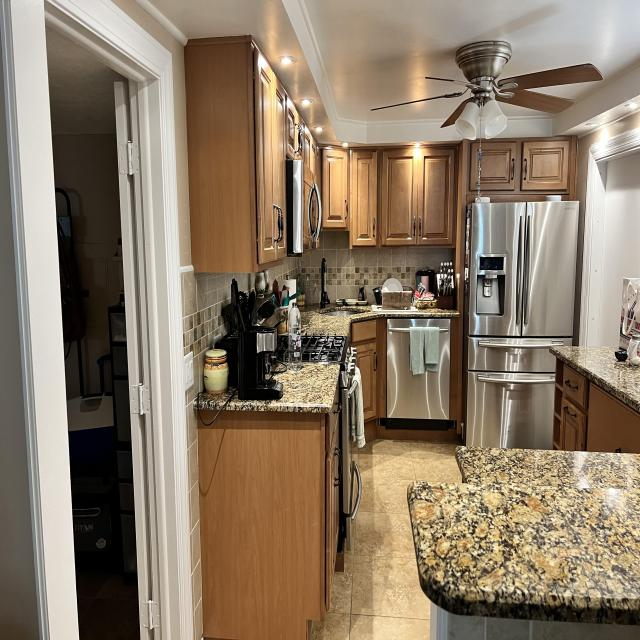Appliance_Dishwasher: (386, 319, 450, 431)
Appliance_Fridge: (464, 199, 583, 450)
Appliance_Microwave: (284, 160, 320, 258)
Appliance_Oven: (277, 334, 365, 573)
Cabinet_Flat: (325, 388, 338, 453), (351, 320, 377, 345)
Cabinet_Raised_Panel: (254, 53, 458, 267), (477, 142, 568, 194), (560, 364, 590, 451), (326, 413, 339, 612), (355, 343, 376, 422)
Countertop_Granite: (407, 481, 640, 626), (455, 446, 640, 490), (551, 346, 640, 415), (301, 309, 460, 337), (278, 363, 339, 407)
